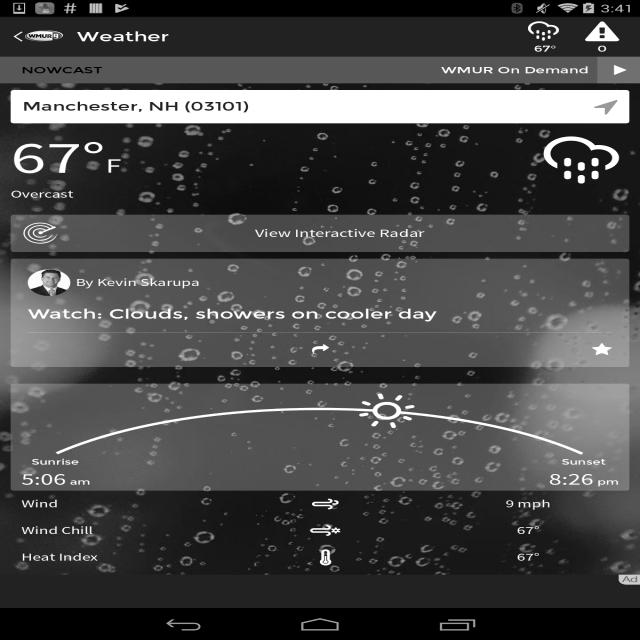ImageView: (526, 132, 630, 191), (338, 388, 432, 433), (307, 542, 356, 573), (520, 20, 572, 43), (20, 221, 60, 245), (300, 495, 354, 510)
TextView: (23, 304, 448, 324), (13, 140, 136, 178), (18, 96, 259, 115), (242, 224, 428, 242), (438, 60, 596, 80), (73, 28, 174, 48), (543, 469, 621, 490), (15, 472, 95, 490), (23, 63, 115, 77), (17, 523, 100, 537), (493, 496, 557, 514)
